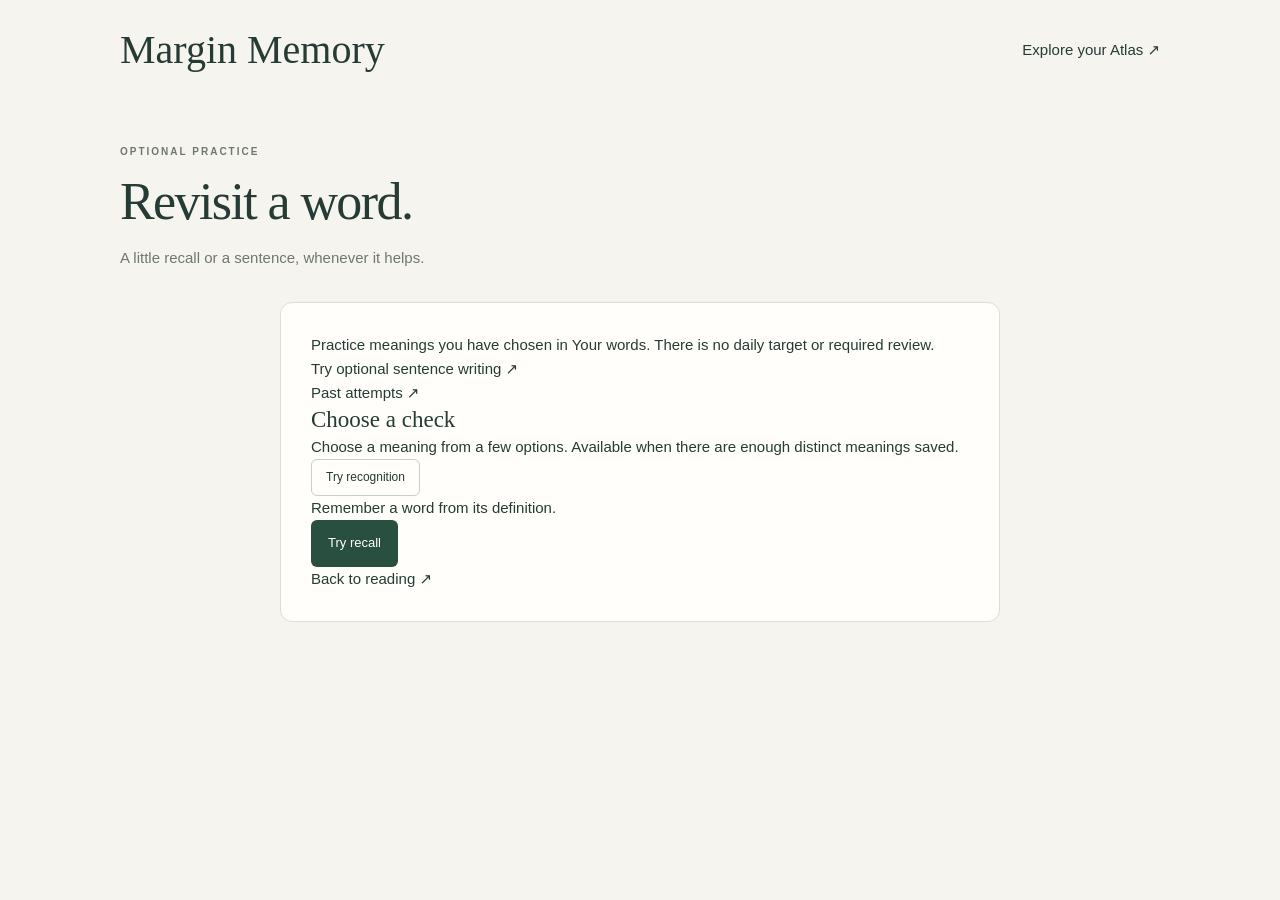
retries the identical submission after a network error
Step 1. Click the button "Try recall" → (354, 543), box [311,520,398,567]
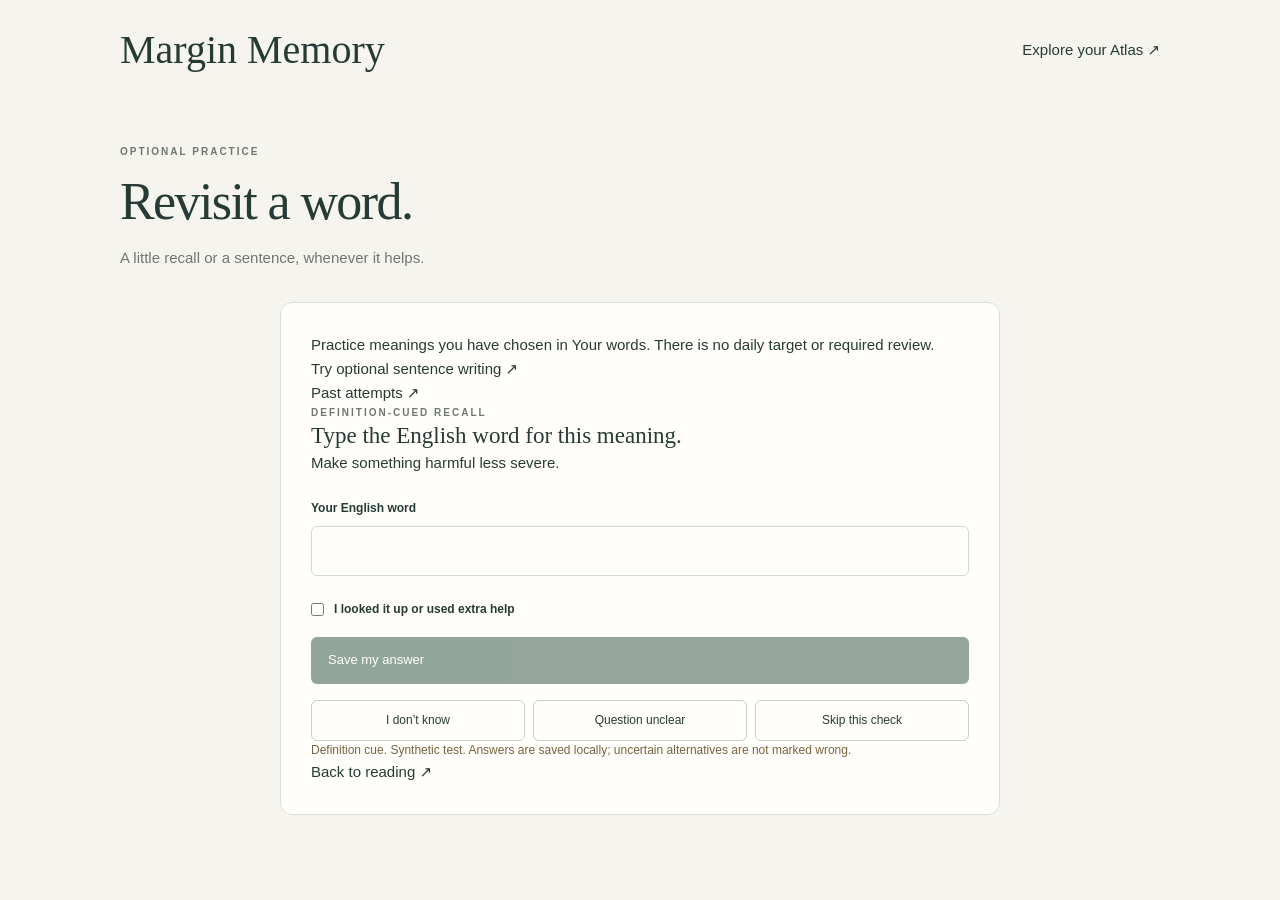
Now the field labelled "Your English word" is shown
Step 2. Type "mitigate" into the field labelled "Your English word" → (640, 551), box [311,526,969,576]
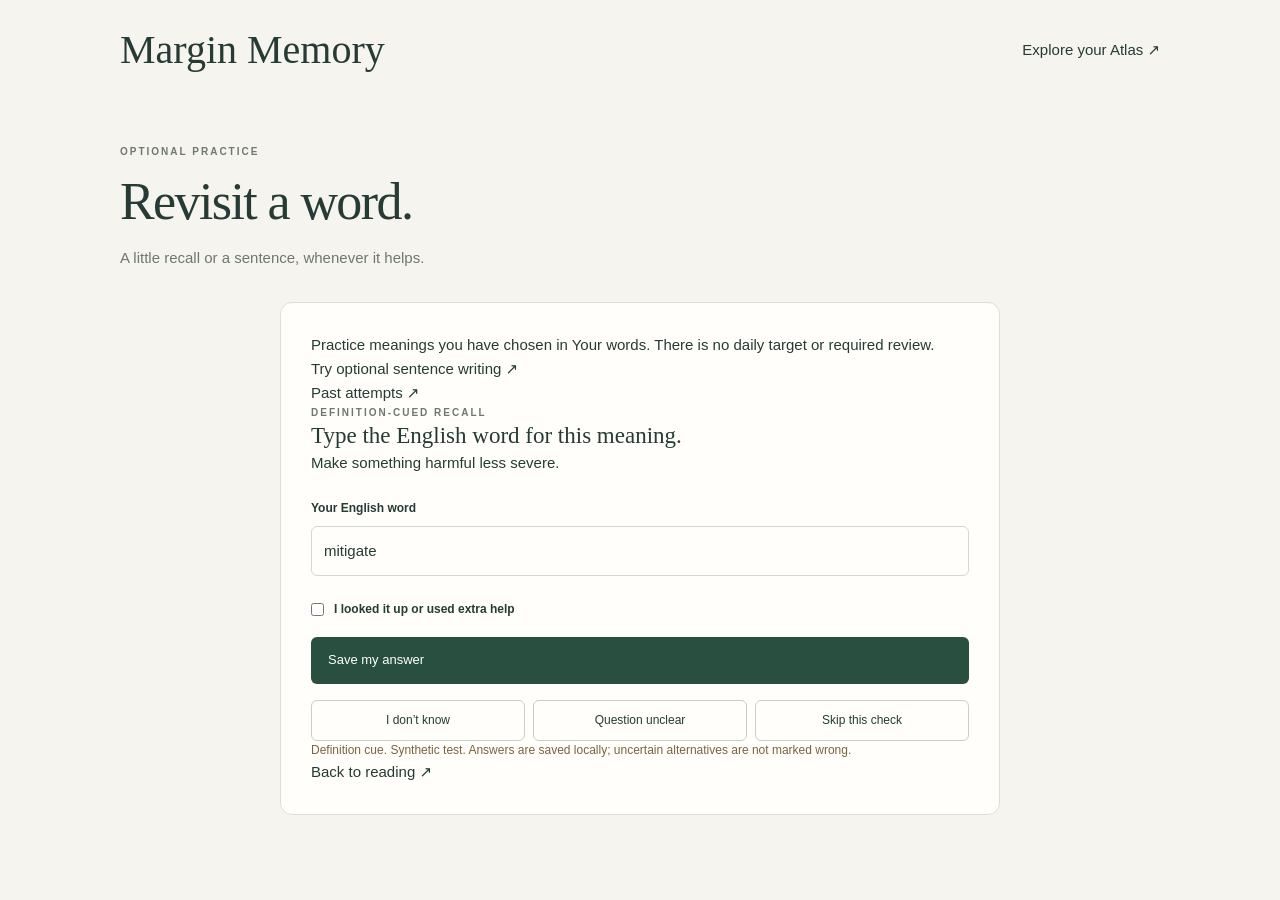
Step 3. Click the button "Save my answer" → (376, 660), box [311,637,969,684]
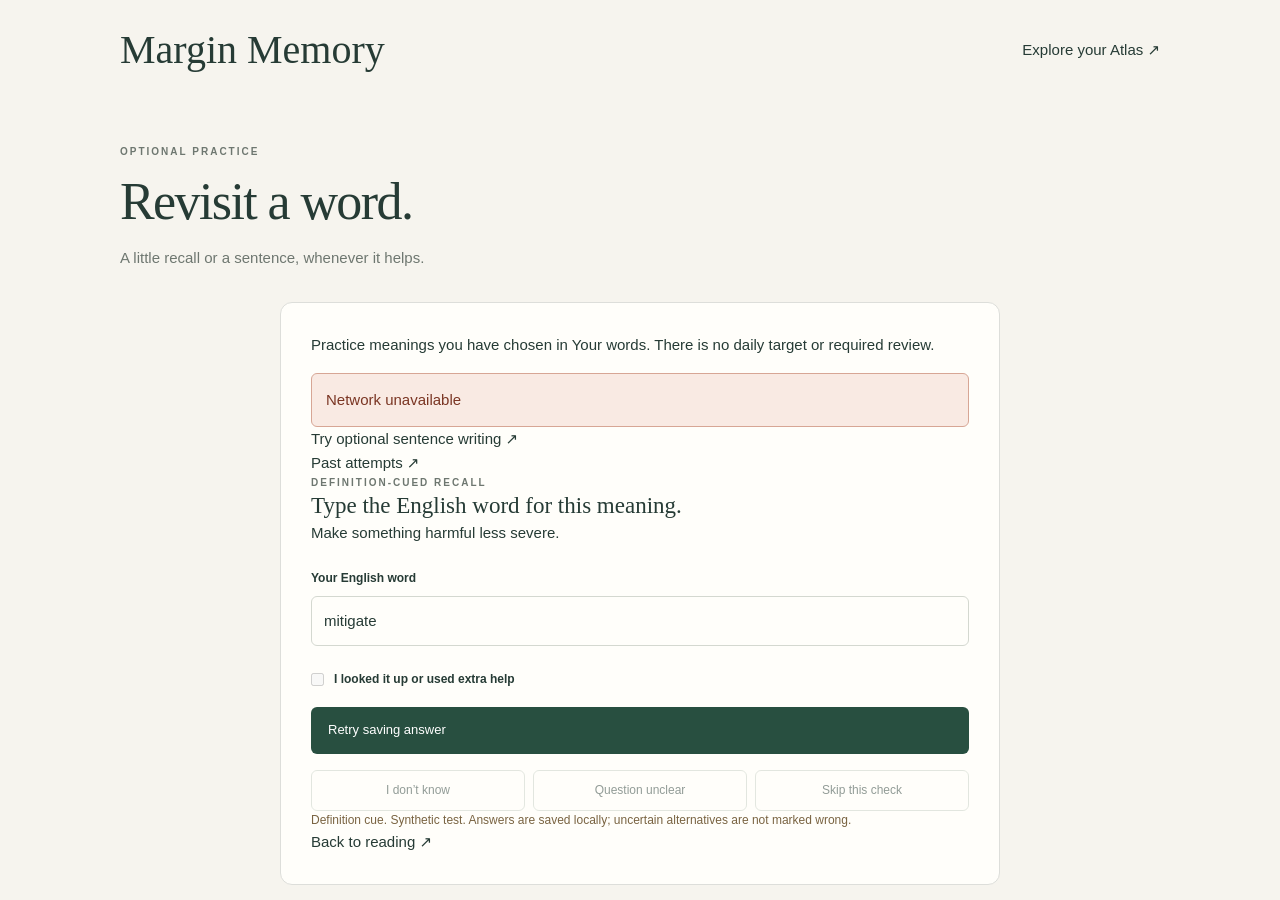
Now the message "Network unavailable" is shown, box [311,373,969,427]
Step 4. Click the button "Retry saving answer" → (387, 730), box [311,707,969,754]
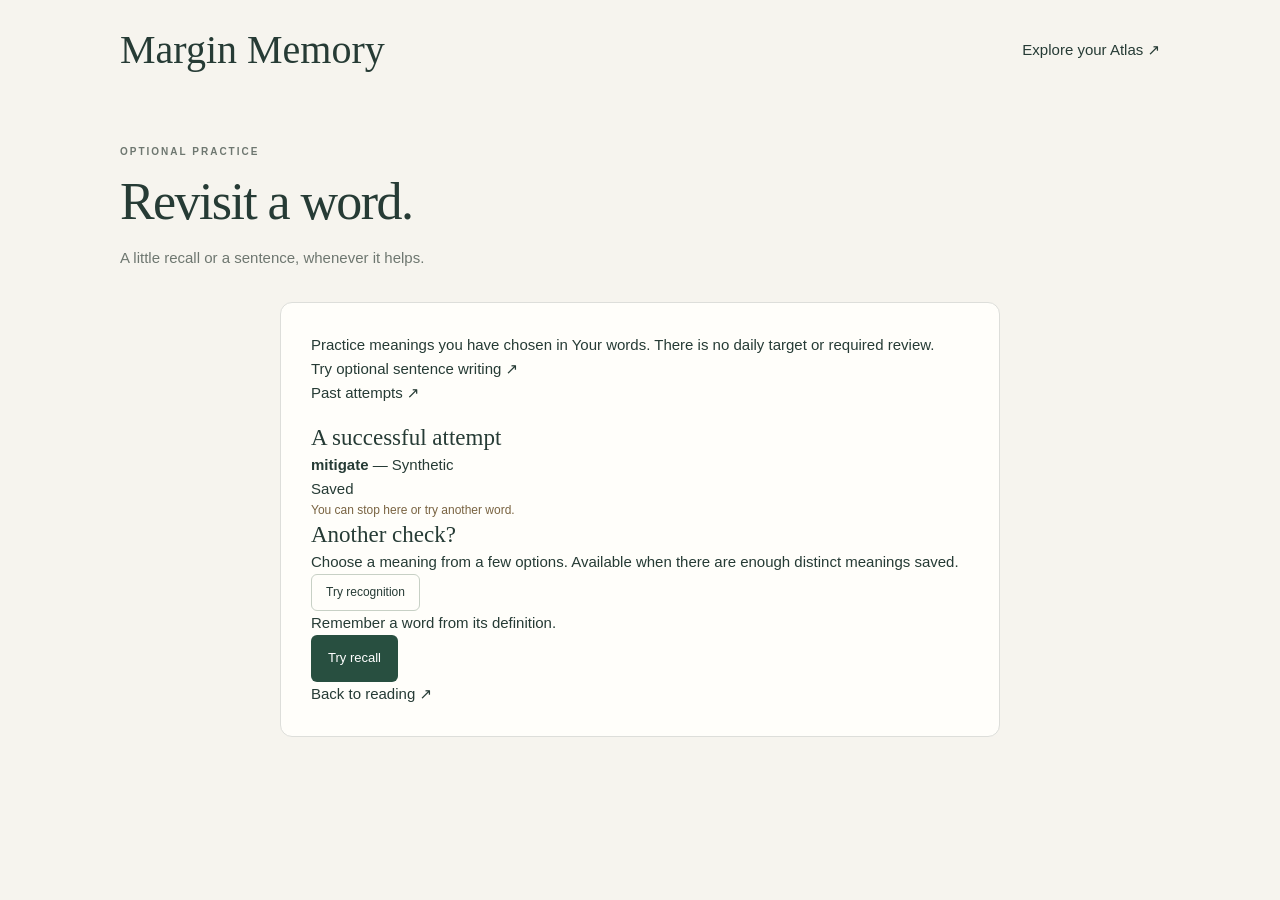
Now the heading "A successful attempt" is shown, box [311,425,501,450]
